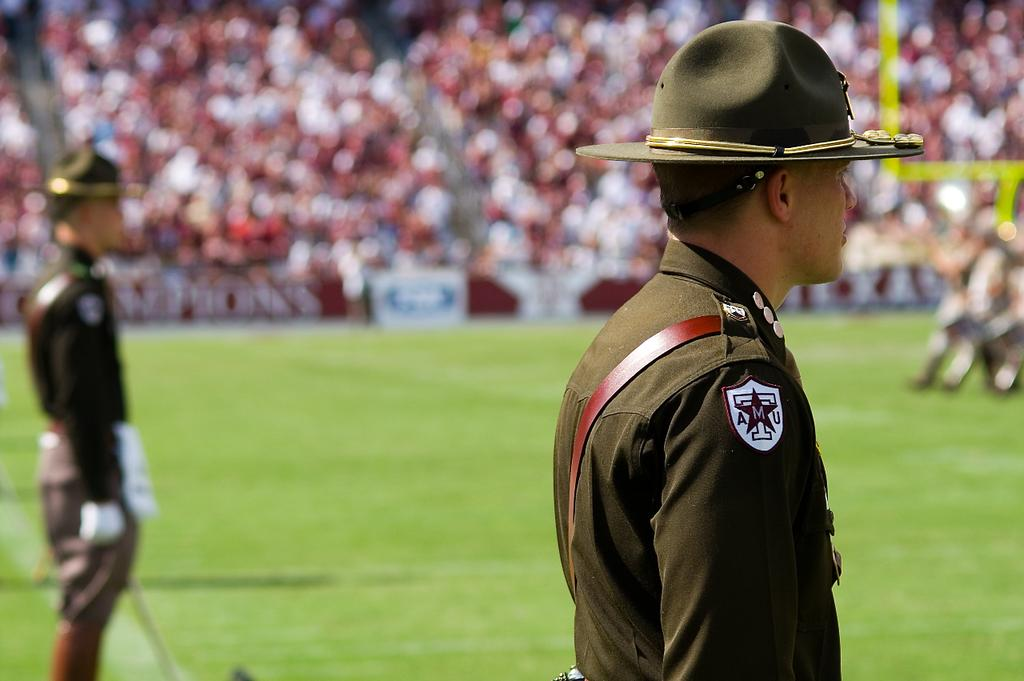Hat: (574, 19, 928, 168), (27, 144, 149, 198)
